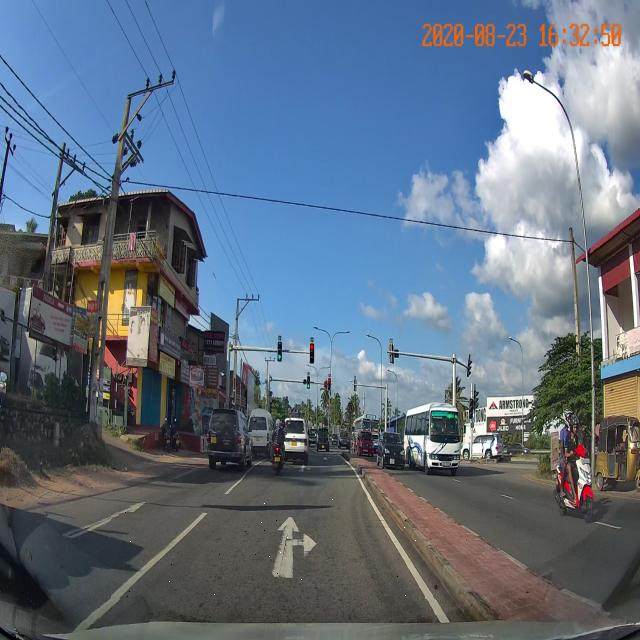forward_right: (112, 497, 439, 598), (112, 521, 439, 598), (113, 527, 438, 598)
